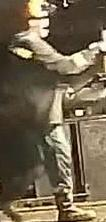gloves: (86, 29, 106, 59)
helmet: (22, 0, 58, 22)
vest: (8, 32, 64, 124)
